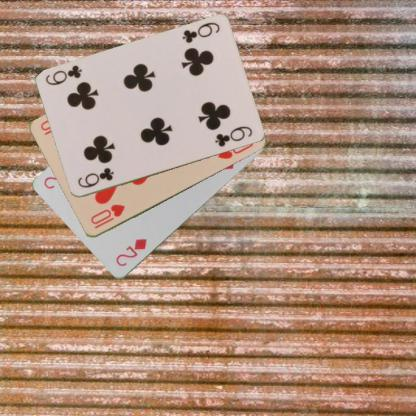10h: (88, 202, 126, 231)
2d: (113, 236, 148, 268)
6c: (179, 20, 221, 45), (75, 165, 115, 190)
